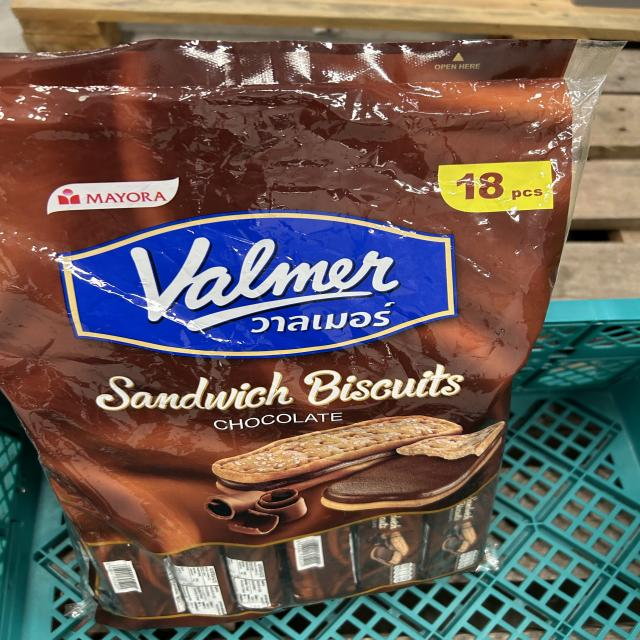object_name: (17, 62, 545, 583)
